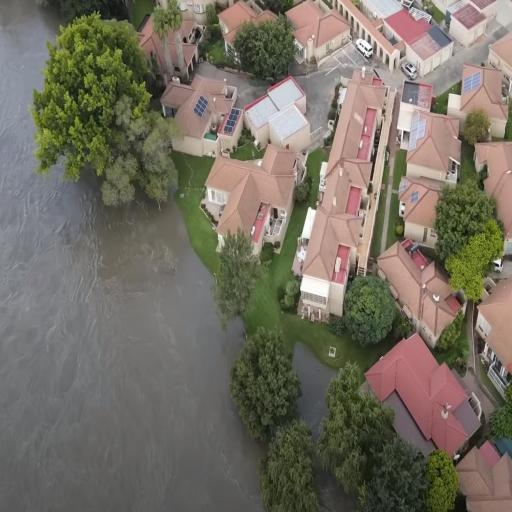flood: (0, 1, 264, 511), (293, 342, 339, 444), (316, 462, 359, 512)
house: (358, 330, 485, 464), (313, 66, 381, 316), (197, 150, 307, 256), (378, 242, 460, 347), (297, 206, 361, 327), (161, 78, 244, 164), (398, 81, 462, 183), (131, 12, 209, 89), (401, 150, 452, 256), (246, 74, 312, 155), (474, 270, 512, 410), (478, 137, 512, 273), (288, 0, 352, 70), (396, 14, 452, 82), (458, 439, 510, 509), (459, 62, 512, 129), (218, 3, 272, 55)
